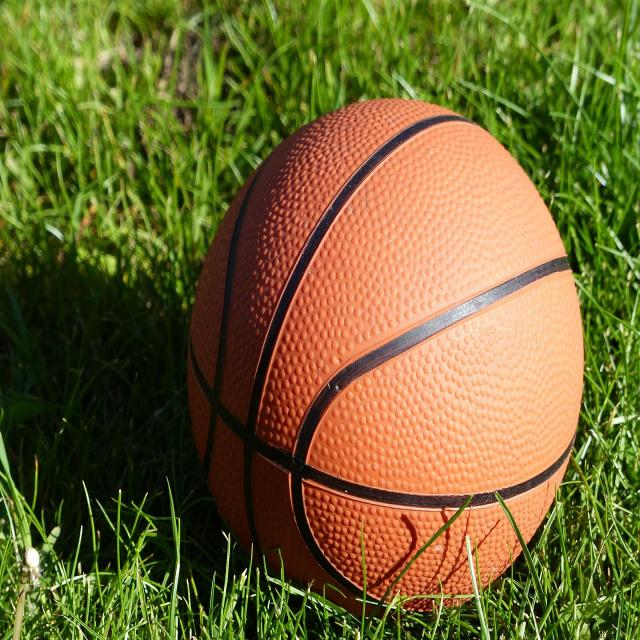Basketball: (182, 95, 586, 627)
